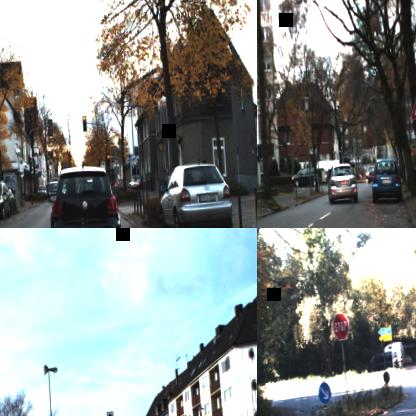CONSTRUCTION: (408, 81, 416, 118), (111, 174, 121, 188)
STOP: (332, 312, 348, 340)
keep right: (318, 380, 330, 404)
speed limit 30: (112, 145, 119, 156)
